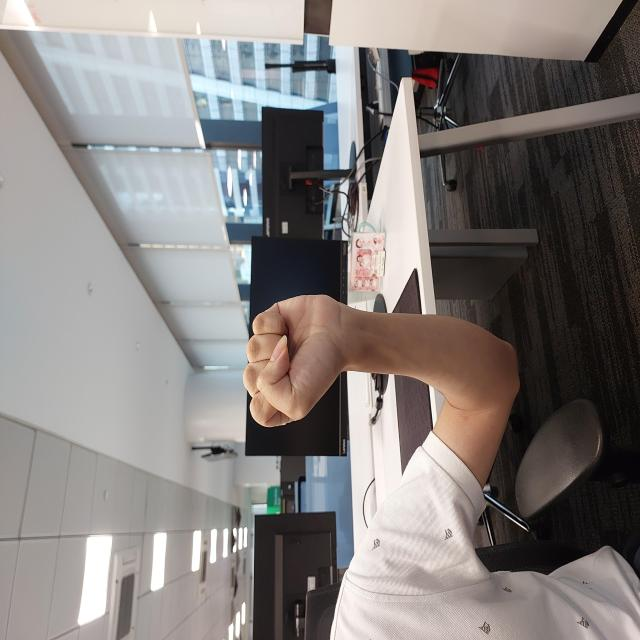S: (211, 242, 350, 346)
